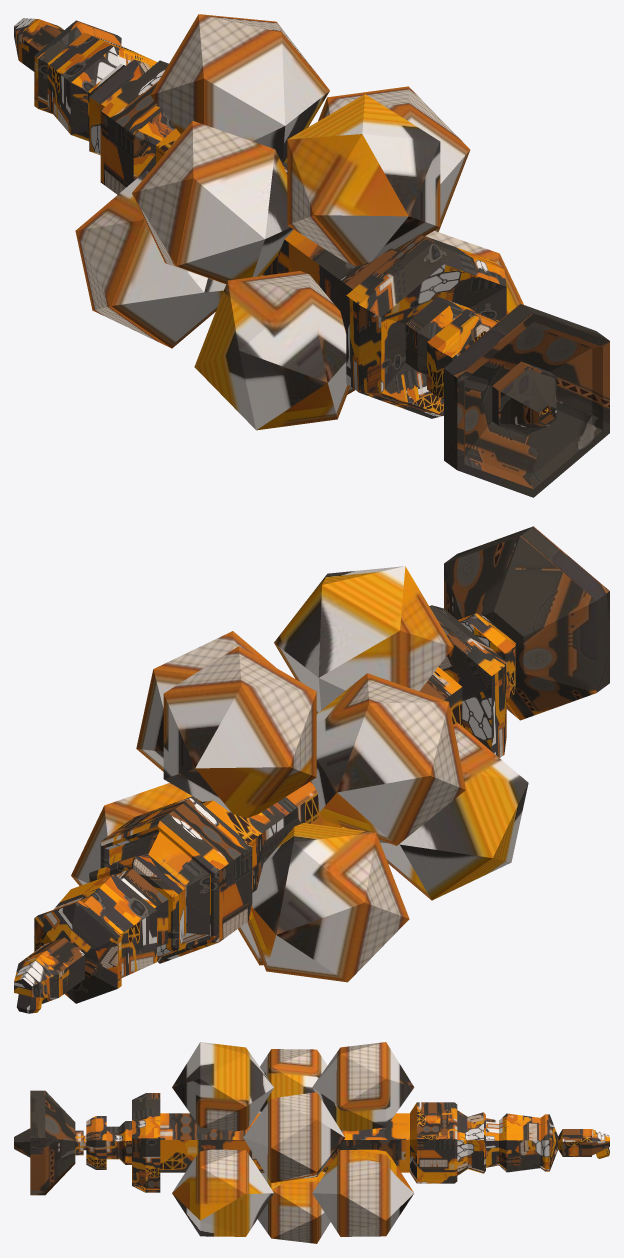
Rendered from cargo-ship.glb.
3 views of the same model, one above another, from view 1: azimuth 30°, elevation 25°; view 2: azimuth 150°, elevation 25°; view 3: azimuth 270°, elevation 25° (orthographic). The views are drawn at different scales.
Visible parts, largest first — view 1: cargo-ship; view 2: cargo-ship; view 3: cargo-ship.
Boxes of the visible parts, left/top/right/bottom form: cargo-ship: left=14, top=14, right=609, bottom=497; cargo-ship: left=14, top=526, right=609, bottom=1013; cargo-ship: left=14, top=1042, right=609, bottom=1243.
Size of the model in its own units: 30.08 by 32.23 by 91.64.
Materials: 1 (1 with a texture image).
